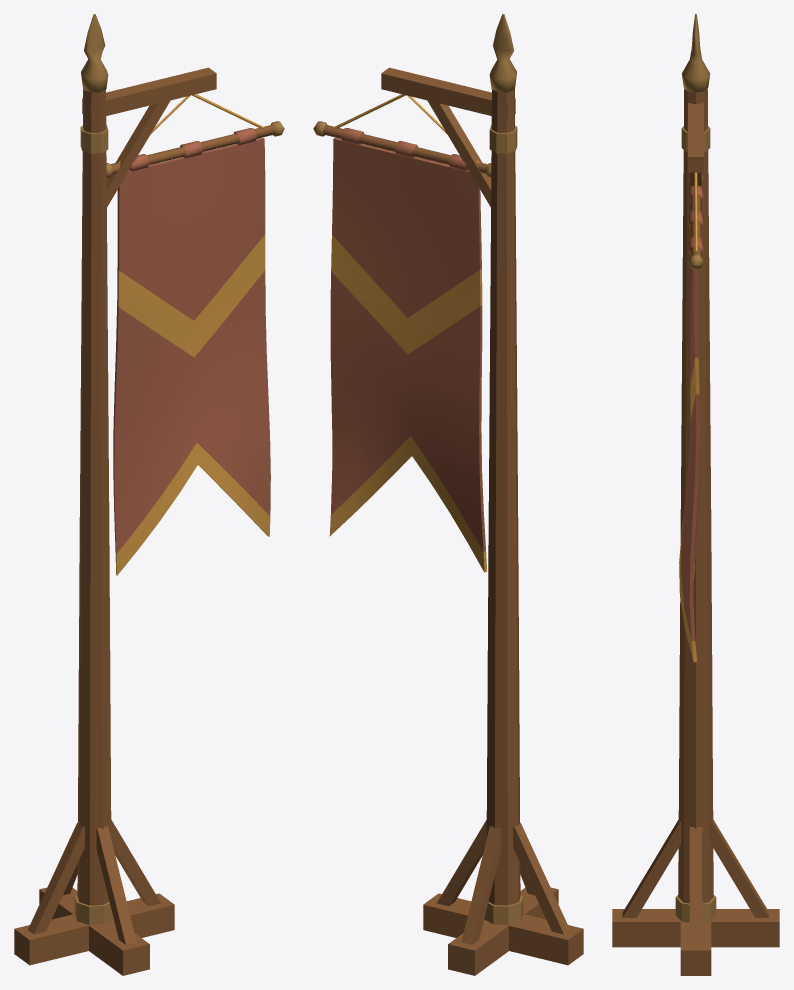
The model's file is prop_banner_cloth_a.glb.
3 renders of one model, left to right at view 1: azimuth 30°, elevation 25°; view 2: azimuth 150°, elevation 25°; view 3: azimuth 270°, elevation 25°, orthographic.
Visible parts, largest first — view 1: prop_banner_cloth_a_banner, prop_banner_cloth_a_frame; view 2: prop_banner_cloth_a_banner, prop_banner_cloth_a_frame; view 3: prop_banner_cloth_a_frame, prop_banner_cloth_a_banner.
Part boxes in pixels (x1,y1,x2,y2): prop_banner_cloth_a_banner: [106, 94, 284, 575]; prop_banner_cloth_a_frame: [14, 14, 216, 975]; prop_banner_cloth_a_banner: [313, 94, 491, 572]; prop_banner_cloth_a_frame: [381, 14, 583, 975]; prop_banner_cloth_a_frame: [612, 14, 779, 975]; prop_banner_cloth_a_banner: [679, 172, 703, 662].
Bounding box in the file's own units: 0.9741 × 3.3 × 0.5401.
